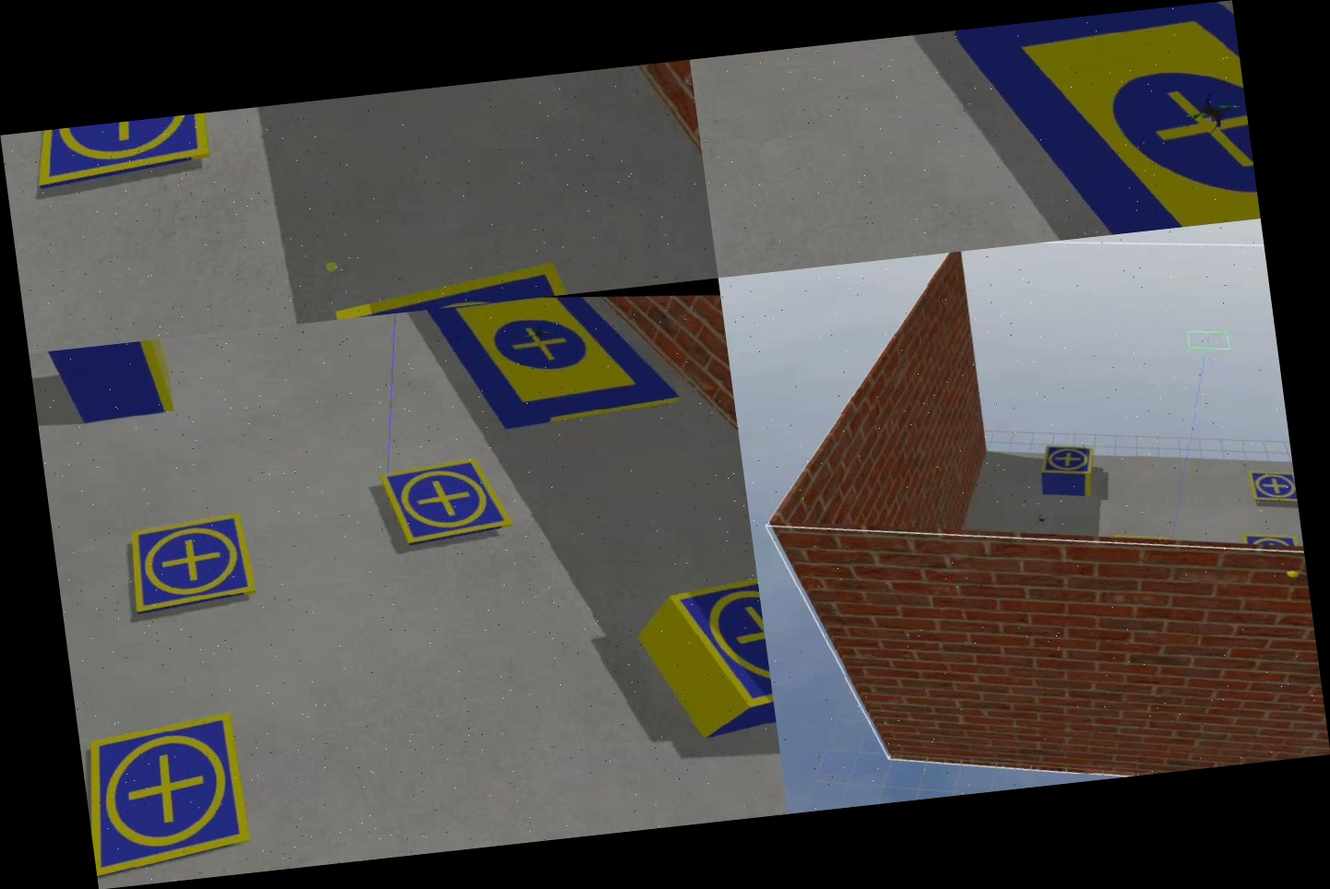large_base: (914, 0, 1260, 254), (401, 282, 695, 456)
small_base: (77, 696, 272, 889), (313, 231, 655, 322), (654, 565, 776, 728), (28, 111, 231, 207), (115, 503, 267, 626), (372, 448, 522, 561), (1037, 437, 1100, 481), (1243, 464, 1298, 511), (1241, 527, 1300, 554)
